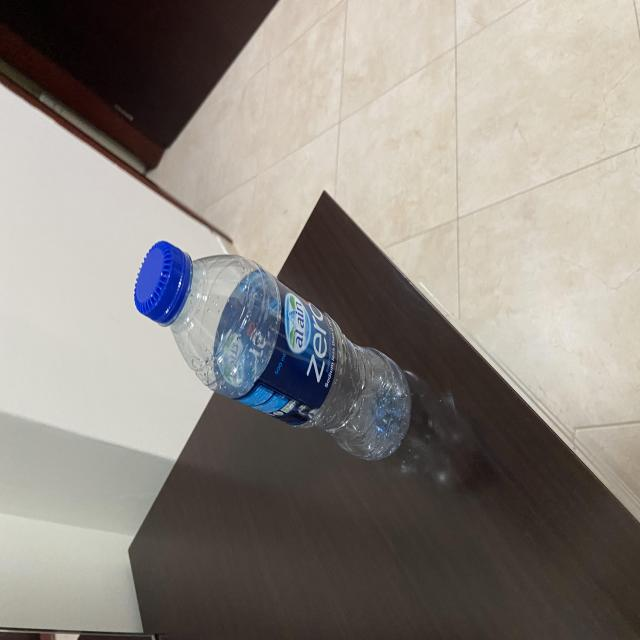bottle: (123, 239, 422, 483)
